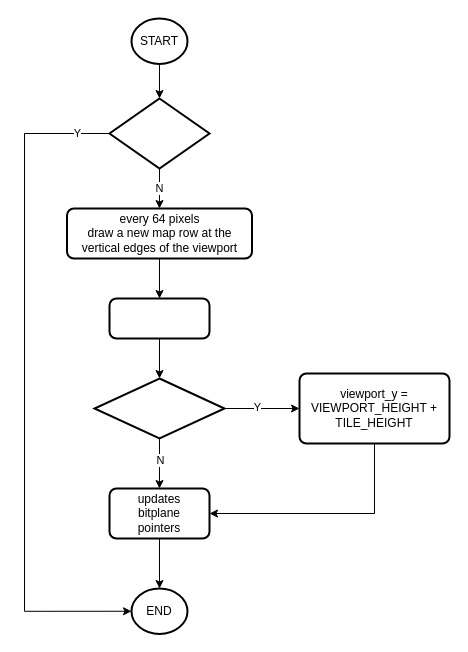
Some shapes in this 468 by 652 pixel diagram are drawn without their labels. The shapes that lost their labels are listed below. From the top down, each one's centre as x and y in pixels, then its label:
At (x=159, y=133): "map_ptr = 0 ?".
At (x=159, y=318): "viewport_y -= 1".
At (x=159, y=408): "viewport_y = 0 ?".
